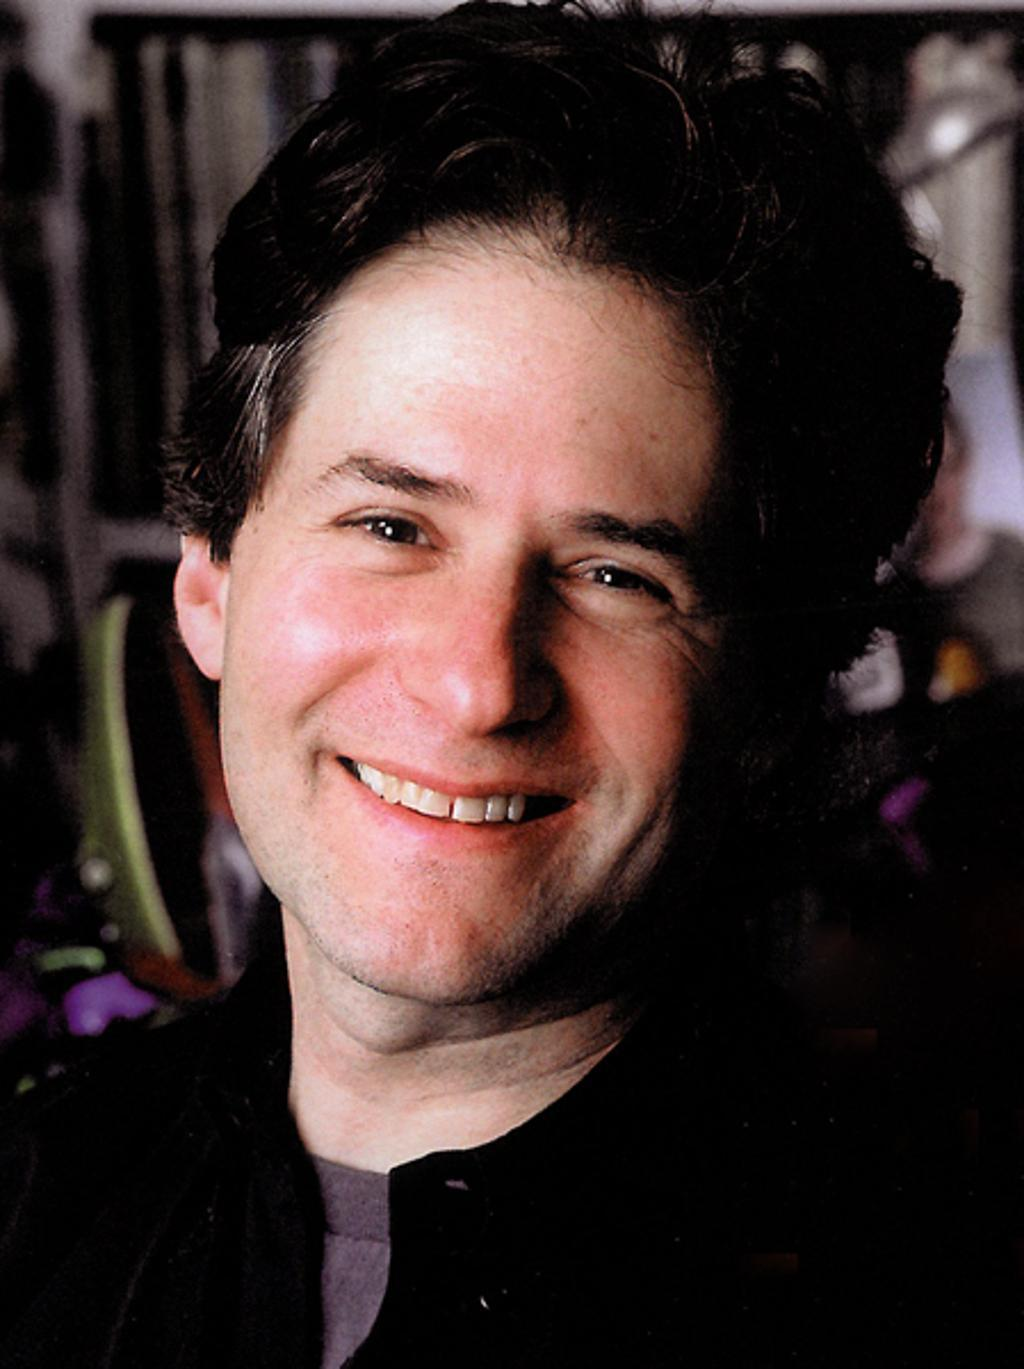face: (242, 276, 739, 998)
